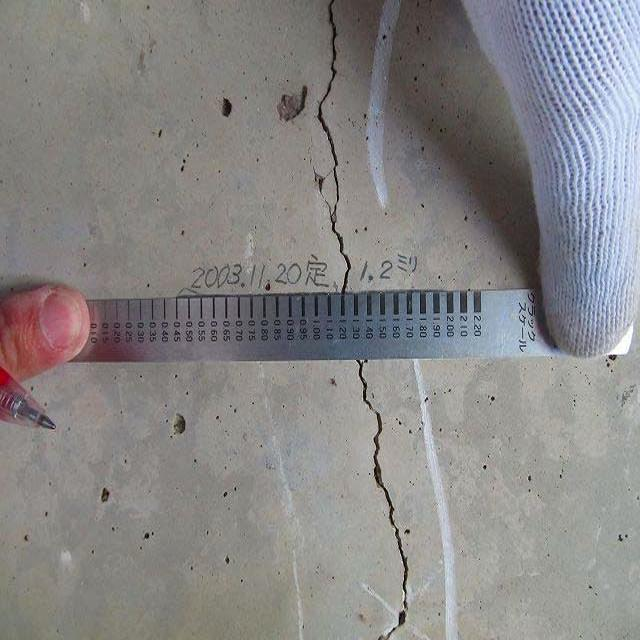crack: (344, 364, 417, 640), (303, 13, 370, 308)
